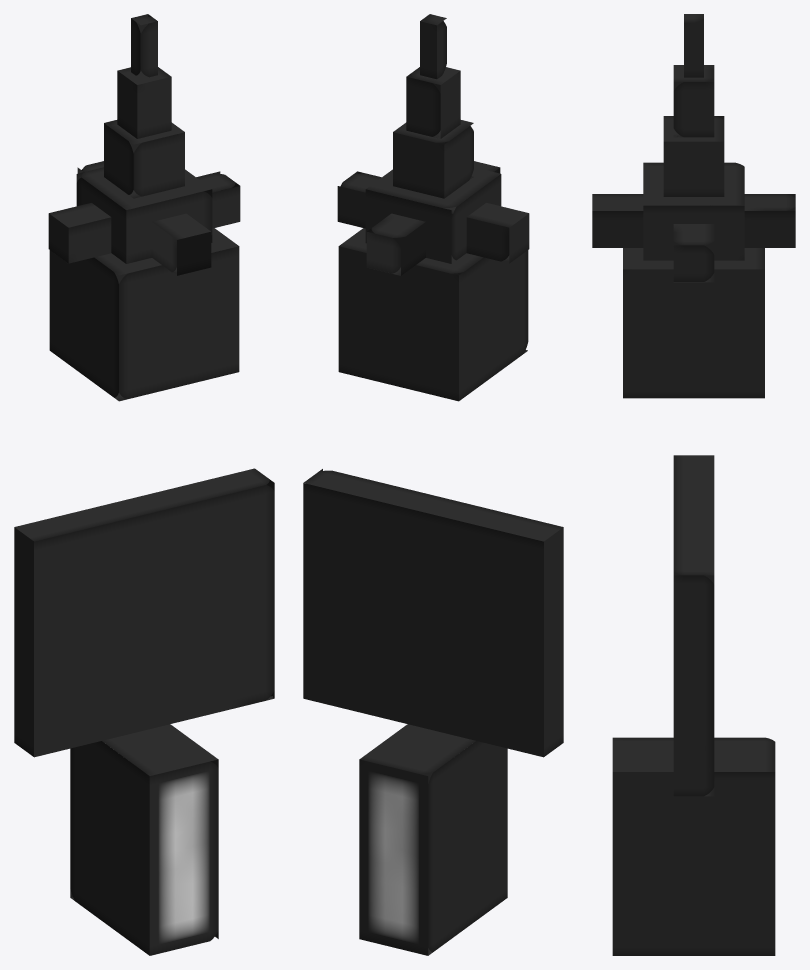
File: missile_head_dibilitation.obj
3 renders of one model, left to right at view 1: azimuth 30°, elevation 25°; view 2: azimuth 150°, elevation 25°; view 3: azimuth 270°, elevation 25°, orthographic. The views are drawn at different scales.
Visible parts, largest first — view 1: group_34, group_35, group_29, Component_20, group_32, group_33, group_31, group_30; view 2: group_34, group_35, group_29, Component_20, group_32, group_33, group_31, group_30; view 3: group_35, group_29, group_34, Component_20, group_32, group_33, group_31, group_30.
Part boxes in pixels (<box>): group_34: <box>14,468,274,757</box>; group_35: <box>70,724,218,955</box>; group_29: <box>49,228,239,401</box>; Component_20: <box>48,161,240,275</box>; group_32: <box>76,167,212,263</box>; group_33: <box>104,120,184,198</box>; group_31: <box>117,67,171,138</box>; group_30: <box>131,14,157,77</box>; group_34: <box>303,469,563,757</box>; group_35: <box>359,724,507,955</box>; group_29: <box>338,228,528,401</box>; Component_20: <box>337,161,529,275</box>; group_32: <box>365,167,501,263</box>; group_33: <box>393,120,473,198</box>; group_31: <box>406,67,460,138</box>; group_30: <box>420,14,446,79</box>; group_35: <box>612,737,775,955</box>; group_29: <box>623,248,764,398</box>; group_34: <box>673,455,714,796</box>; Component_20: <box>592,194,795,282</box>; group_32: <box>643,162,744,260</box>; group_33: <box>663,116,724,196</box>; group_31: <box>673,65,714,137</box>; group_30: <box>684,14,703,77</box>.
Size of the model in its own units: 88.19 by 315 by 62.99.
